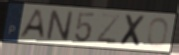5: (73, 10, 96, 43)
A: (17, 8, 47, 41)
N: (45, 8, 75, 43)
O: (146, 16, 170, 49)
X: (118, 13, 148, 49)
Z: (95, 12, 122, 45)
